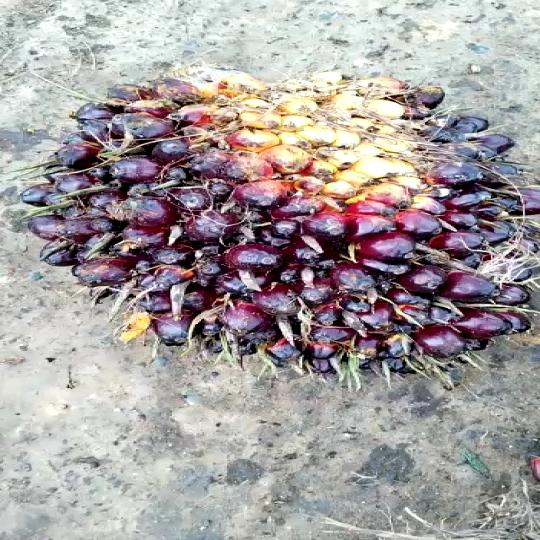mentah: (20, 68, 536, 378)
